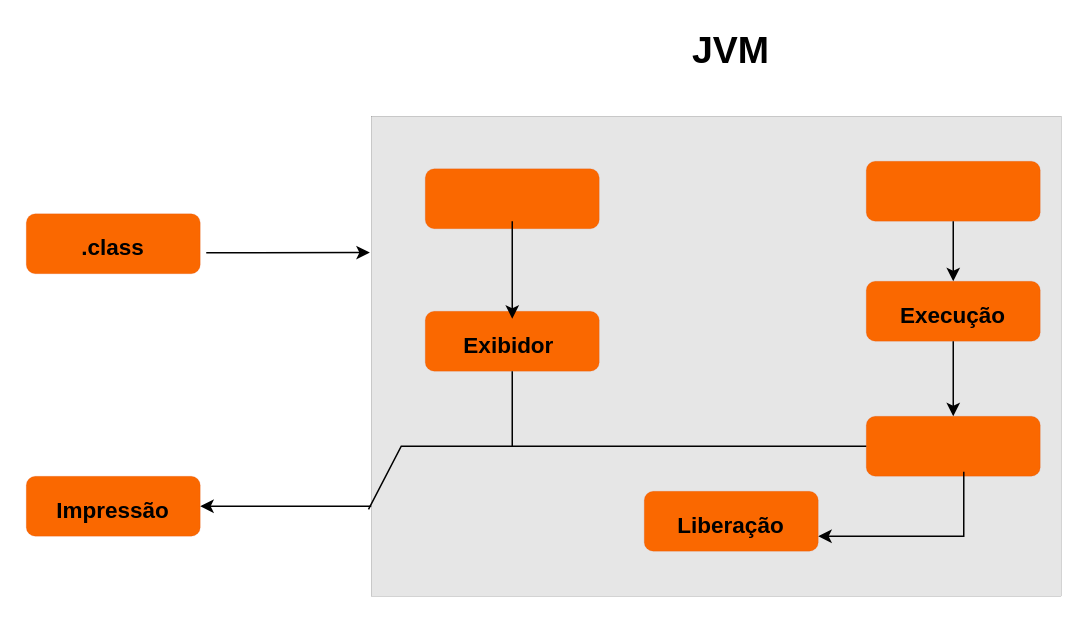
This 1086x621 diagram has some shape labels left out. The centre of each missing label's shape, as x and y in pixels:
Inicialização: [953,190]
Interpretação: [953,446]
Leitor: [511,198]
